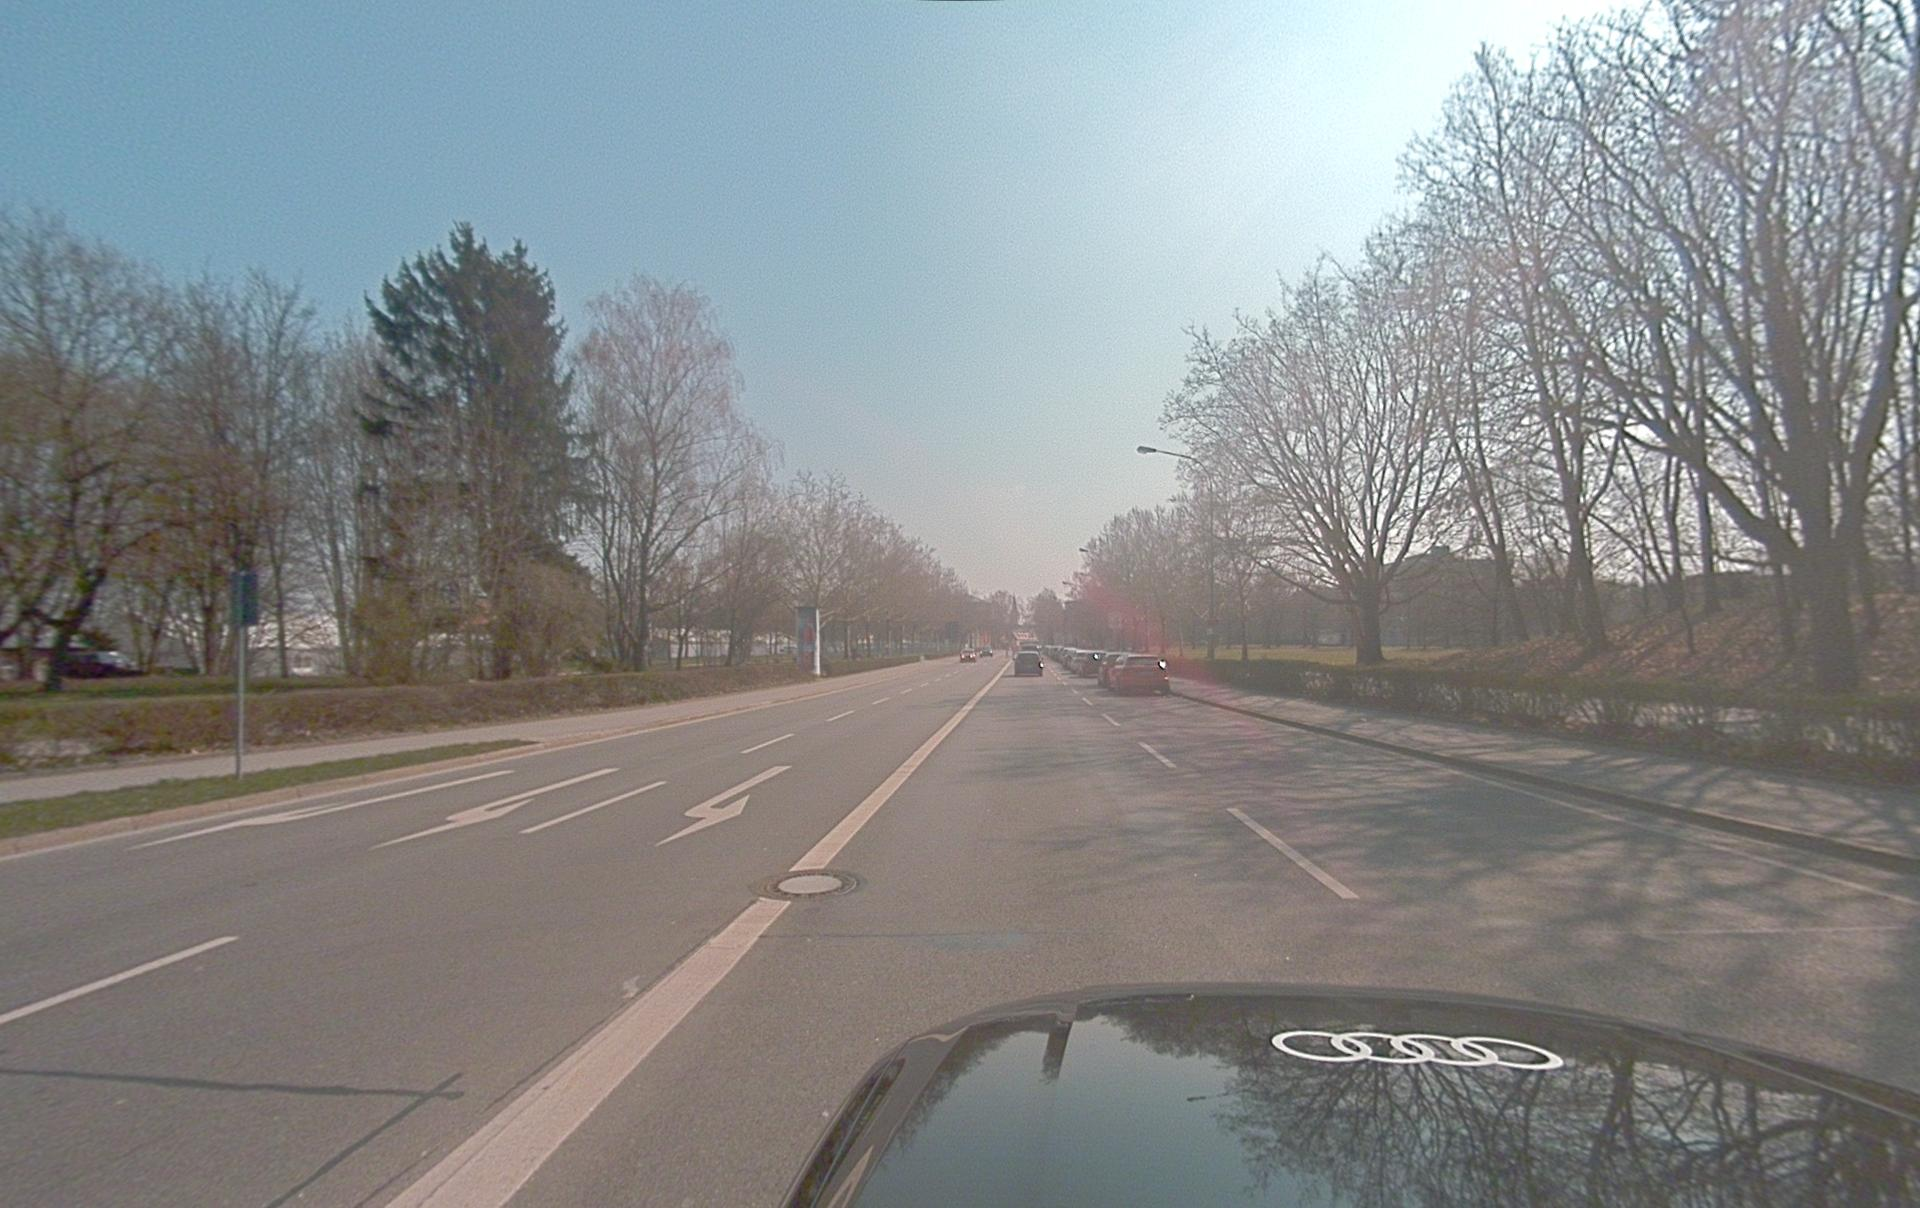car: (778, 981, 1920, 1207), (1099, 653, 1170, 694), (61, 649, 143, 679), (1014, 653, 1043, 675), (960, 647, 977, 662)
